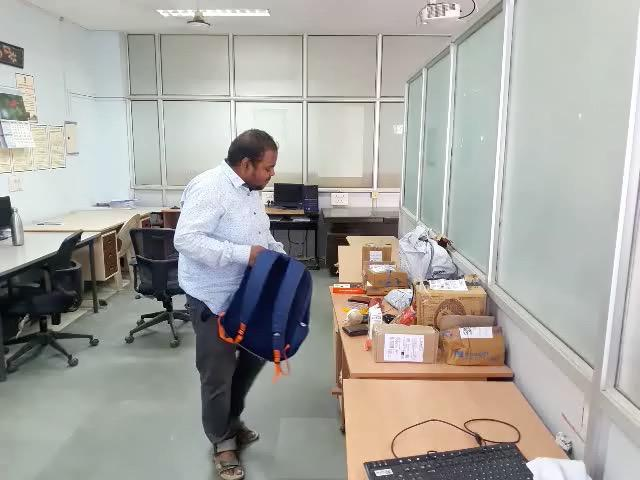shoplifting: (118, 194, 378, 386)
